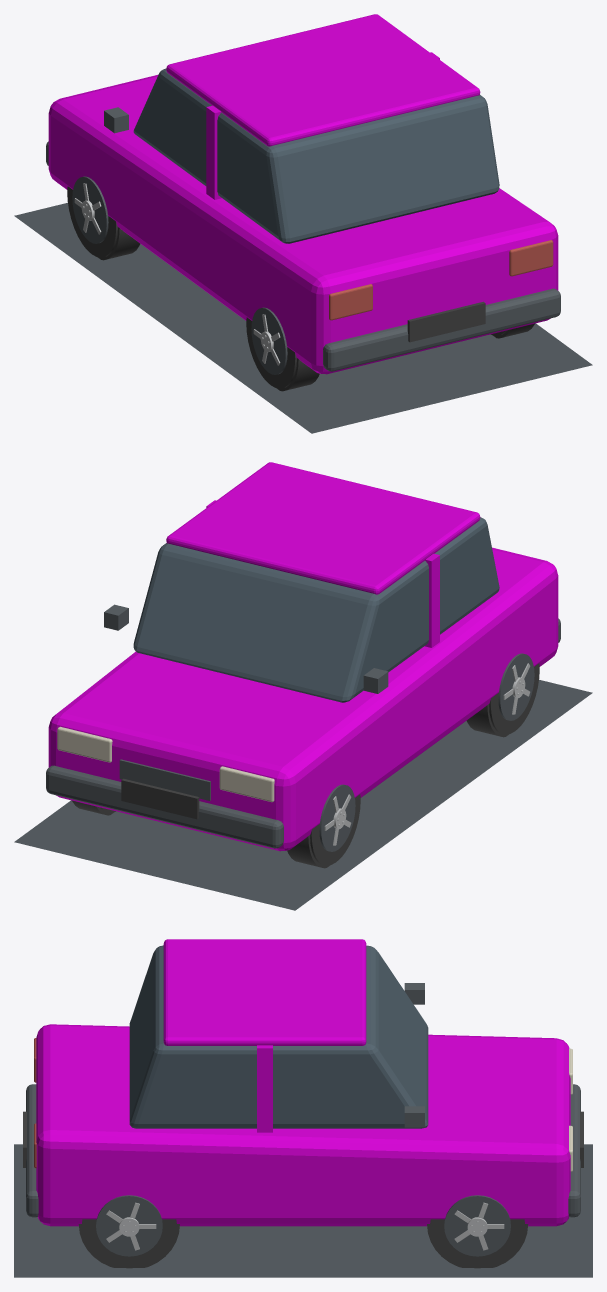
File: mobil.glb
The picture shows the model from 3 angles, top to bottom: view 1: azimuth 30°, elevation 25°; view 2: azimuth 150°, elevation 25°; view 3: azimuth 270°, elevation 25°; orthographic projection. The views are drawn at different scales.
Visible parts, largest first — view 1: main; view 2: main; view 3: main.
Part boxes in pixels (x1=…): main: x1=14, y1=14, x2=592, y2=433; main: x1=14, y1=462, x2=592, y2=910; main: x1=14, y1=939, x2=592, y2=1277.
Size of the model in its own units: 1.56 by 1.23 by 2.86.
